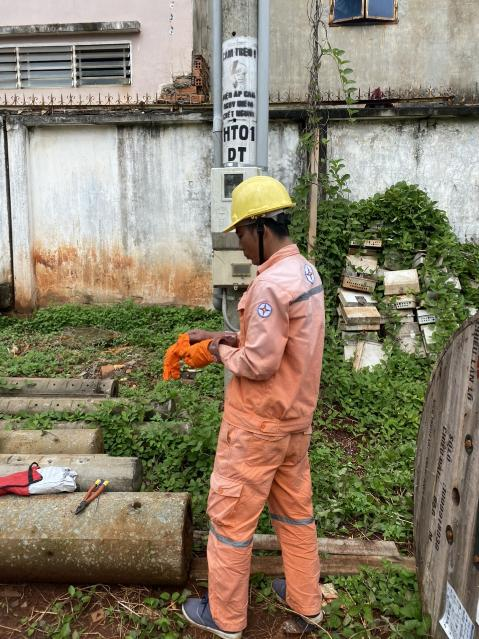gloves: (143, 329, 184, 382), (171, 334, 226, 372)
helmet: (202, 179, 306, 229)
shoes: (169, 587, 259, 639), (267, 570, 340, 631)
